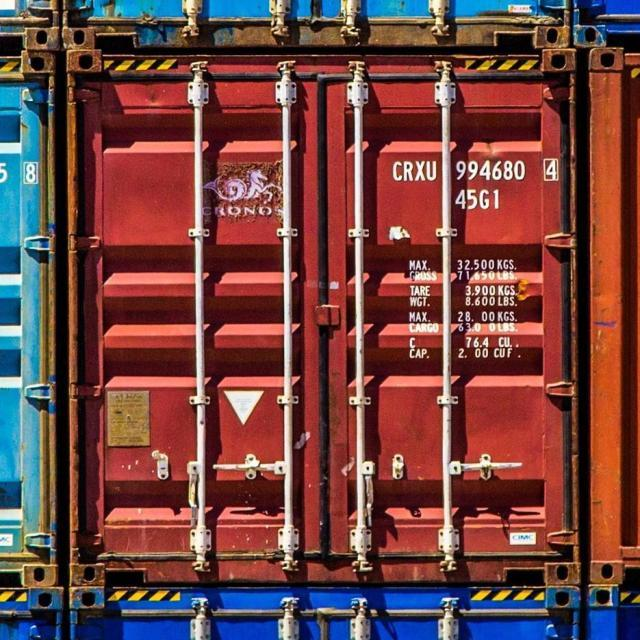ISO: (452, 188, 503, 212)
container_number: (388, 158, 560, 182)
